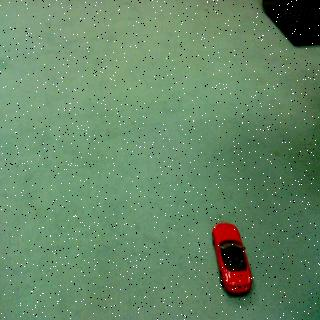car: (209, 216, 257, 308)
